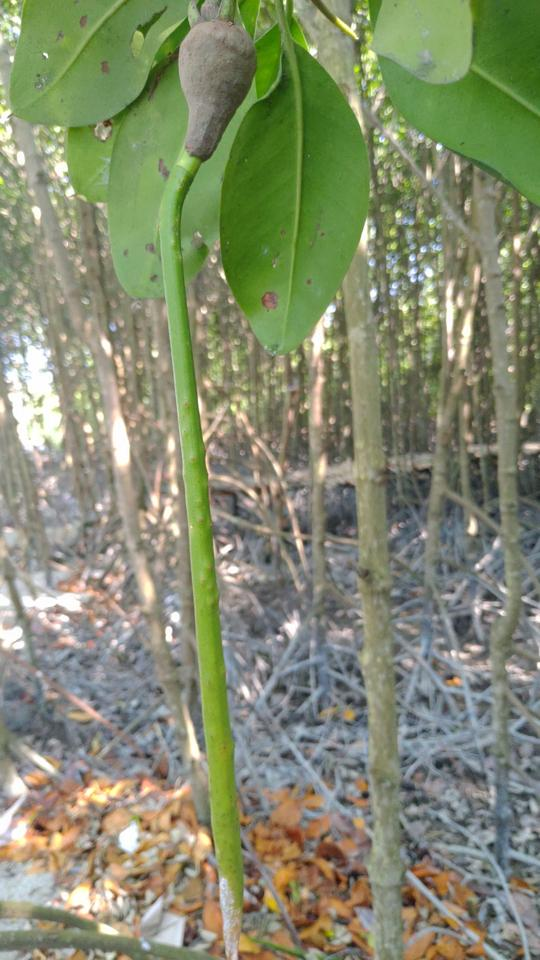setengah matang: (143, 12, 288, 956)
